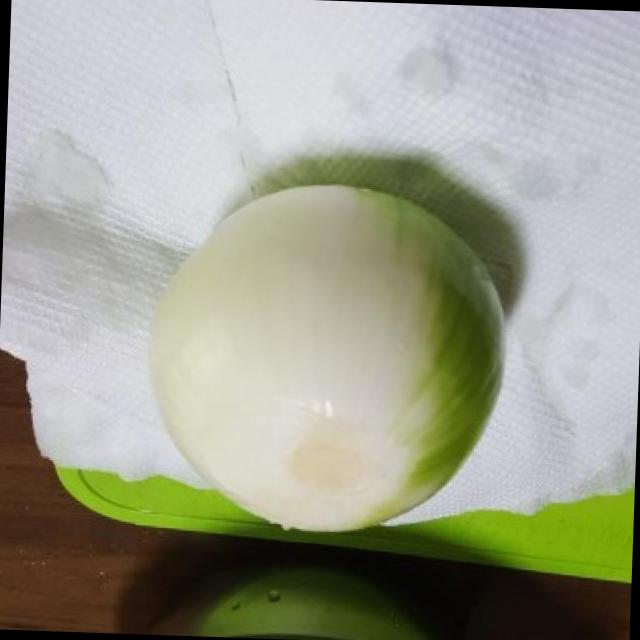Onion: (134, 164, 516, 549)
